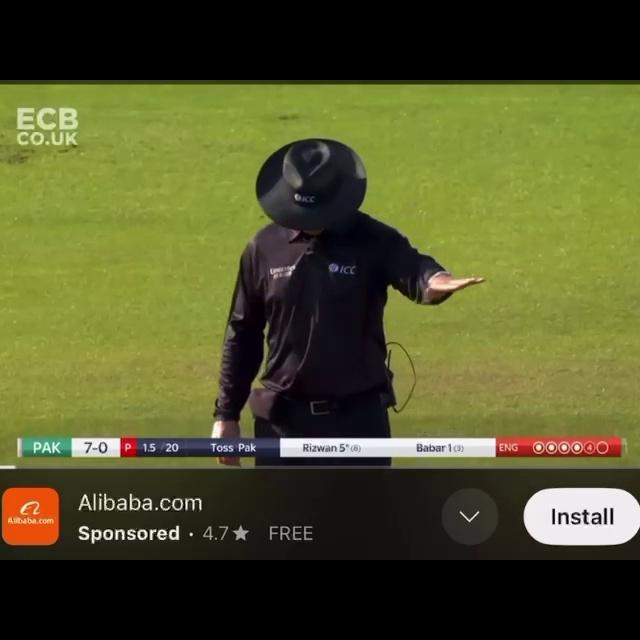umpire: (150, 131, 499, 431)
